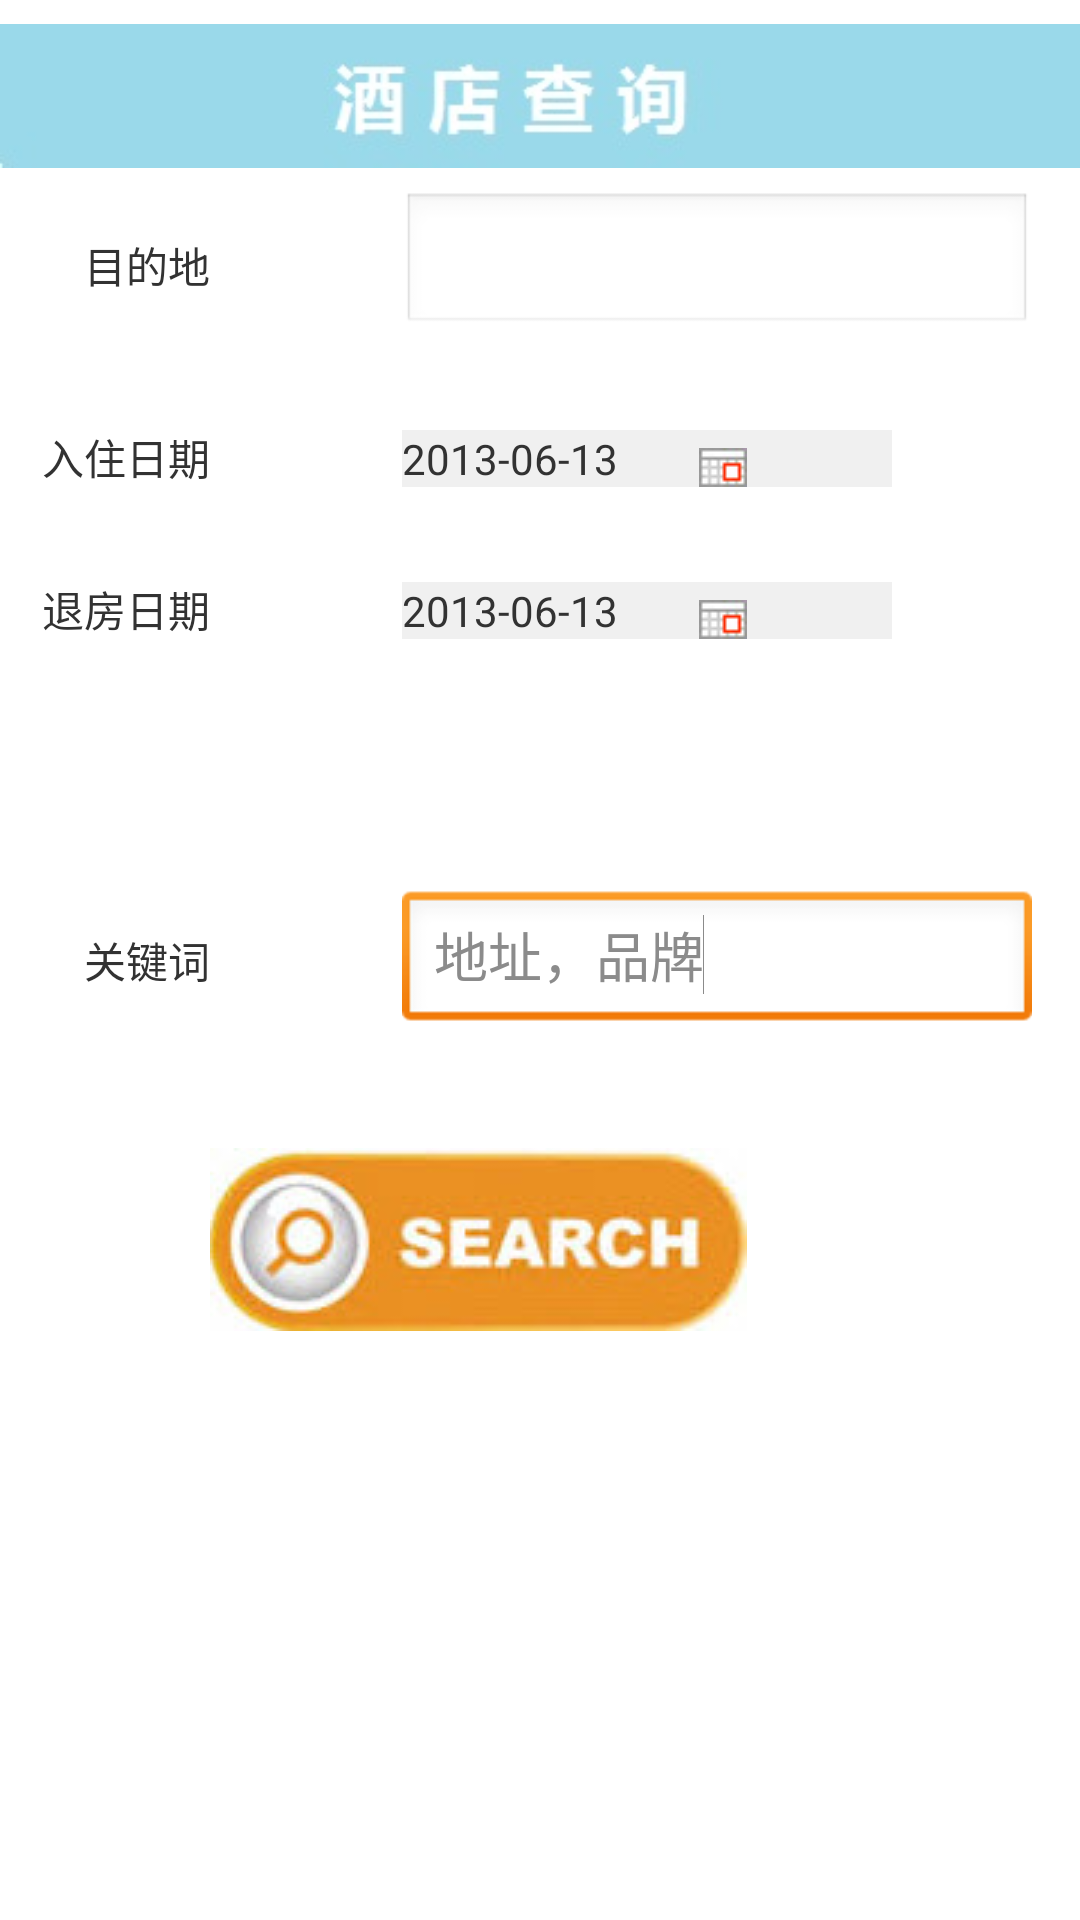

Locate icon controls on the screen. Image size 1080*1920, boxes as (x1, y1, x2, y2).
calendar: (699, 448, 747, 487), (699, 600, 747, 639)
